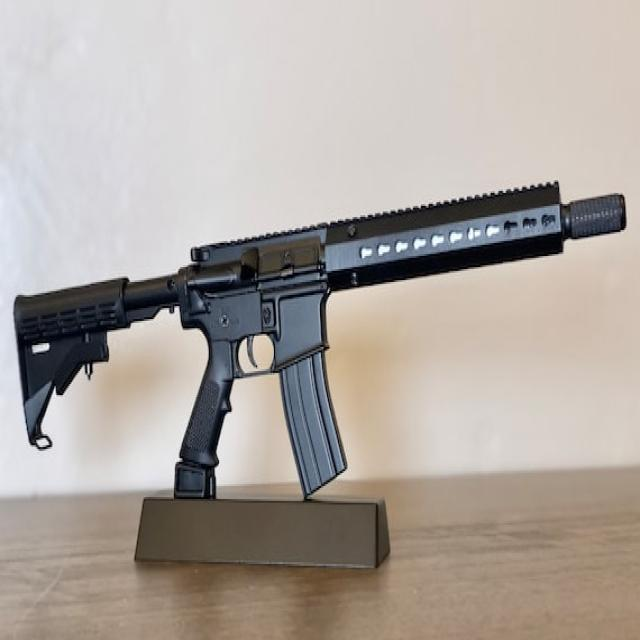Rifle: (11, 184, 630, 503)
